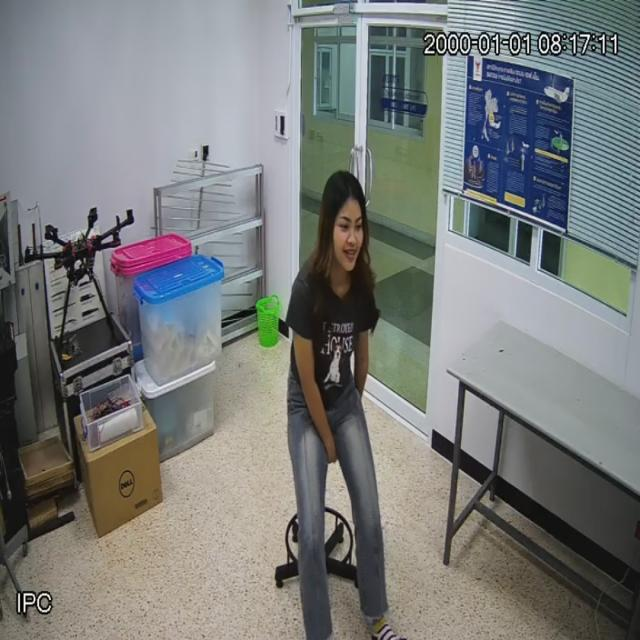normal: (290, 172, 387, 640)
